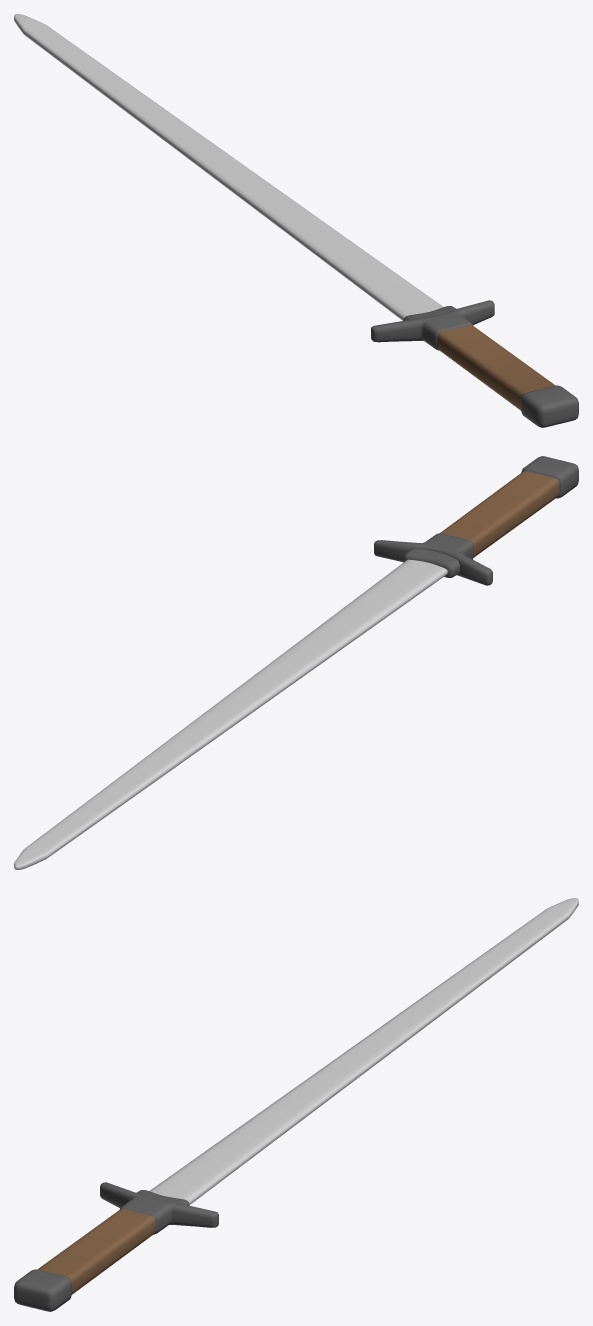
The model's file is Sword_01.fbx.
3 renders of one model, top to bottom at view 1: azimuth 30°, elevation 25°; view 2: azimuth 150°, elevation 25°; view 3: azimuth 330°, elevation 25°, orthographic.
Parts seen in each view (by area): view 1: Sword_01; view 2: Sword_01; view 3: Sword_01.
Part boxes in pixels (bbox=[...]): Sword_01: bbox=[14, 14, 578, 427]; Sword_01: bbox=[14, 456, 578, 869]; Sword_01: bbox=[14, 898, 578, 1311].
Bounding box in the file's own units: 13.89 × 2.56 × 110.
